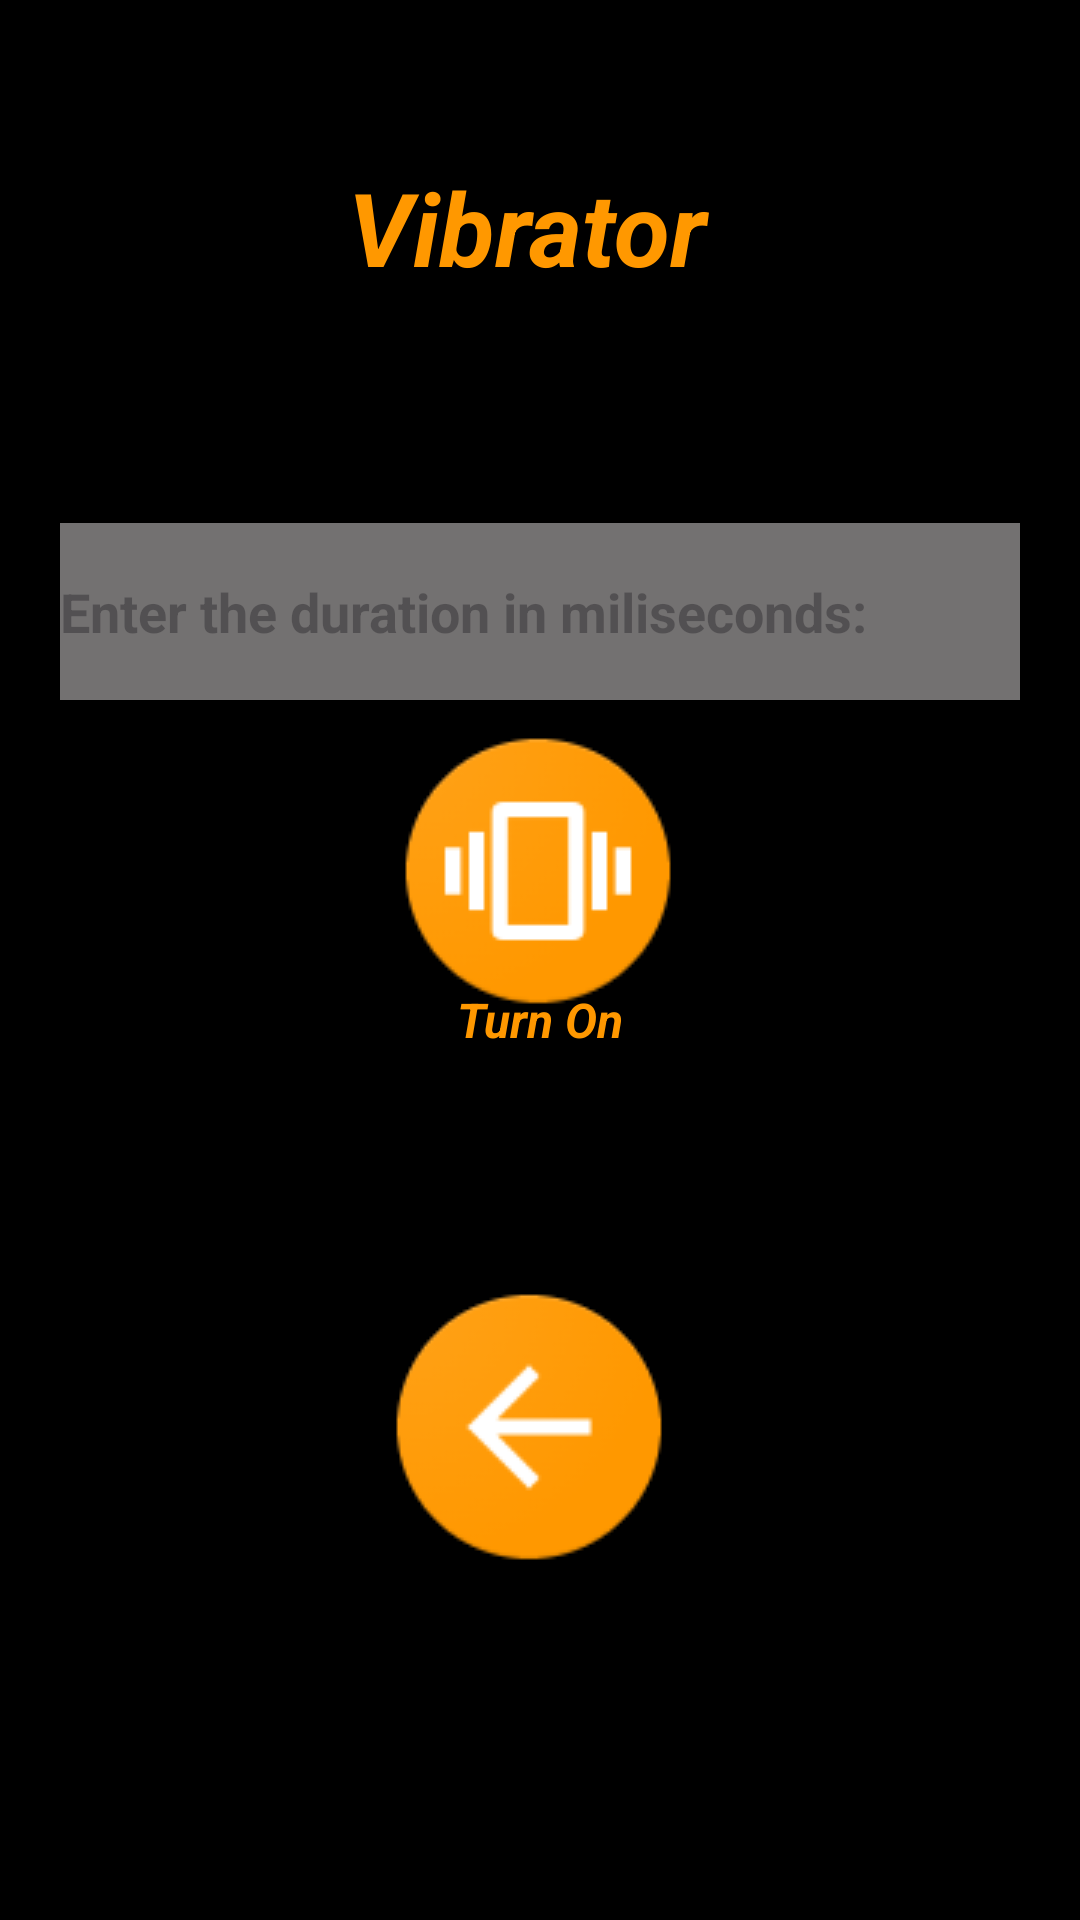

Icons on this 1080px x 1920px Android screen, each with its box as (left=x1, top=y1, right=x2, bottom=y2):
ret: (left=396, top=1294, right=662, bottom=1560)
vib: (left=405, top=738, right=671, bottom=1004)
